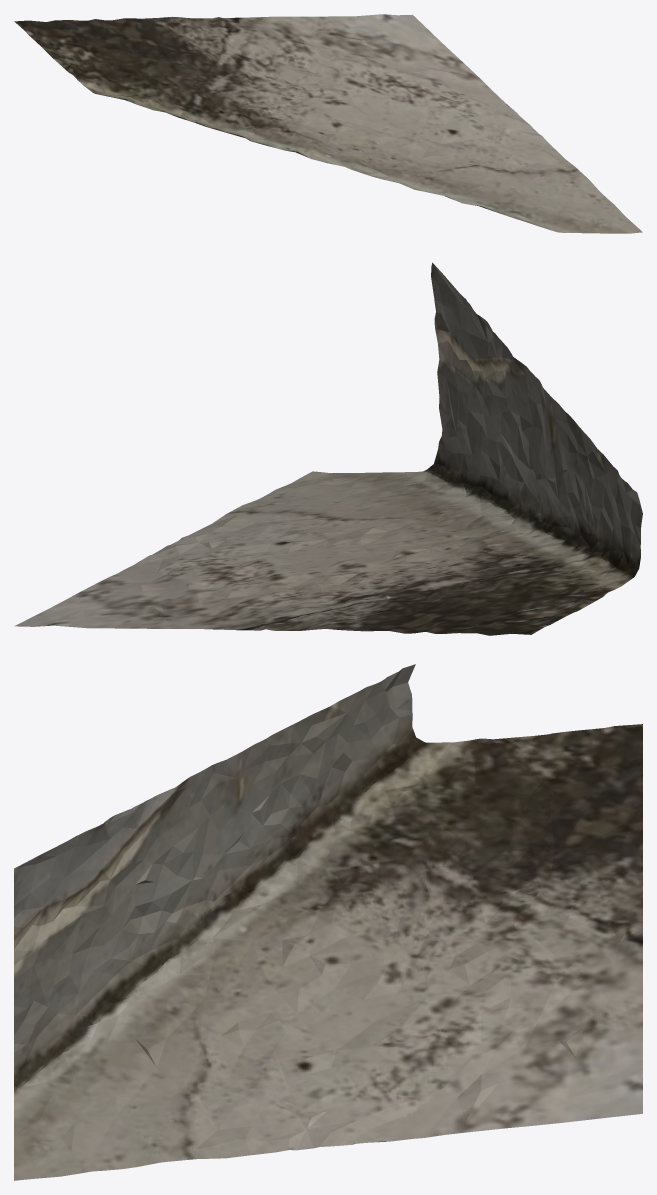
3 renders of one model, top to bottom at view 1: azimuth 30°, elevation 25°; view 2: azimuth 150°, elevation 25°; view 3: azimuth 270°, elevation 25°, orthographic. The views are drawn at different scales.
Size of the model in its own units: 0.8373 by 0.3687 by 0.8374.
Materials: 2 (2 with a texture image).
